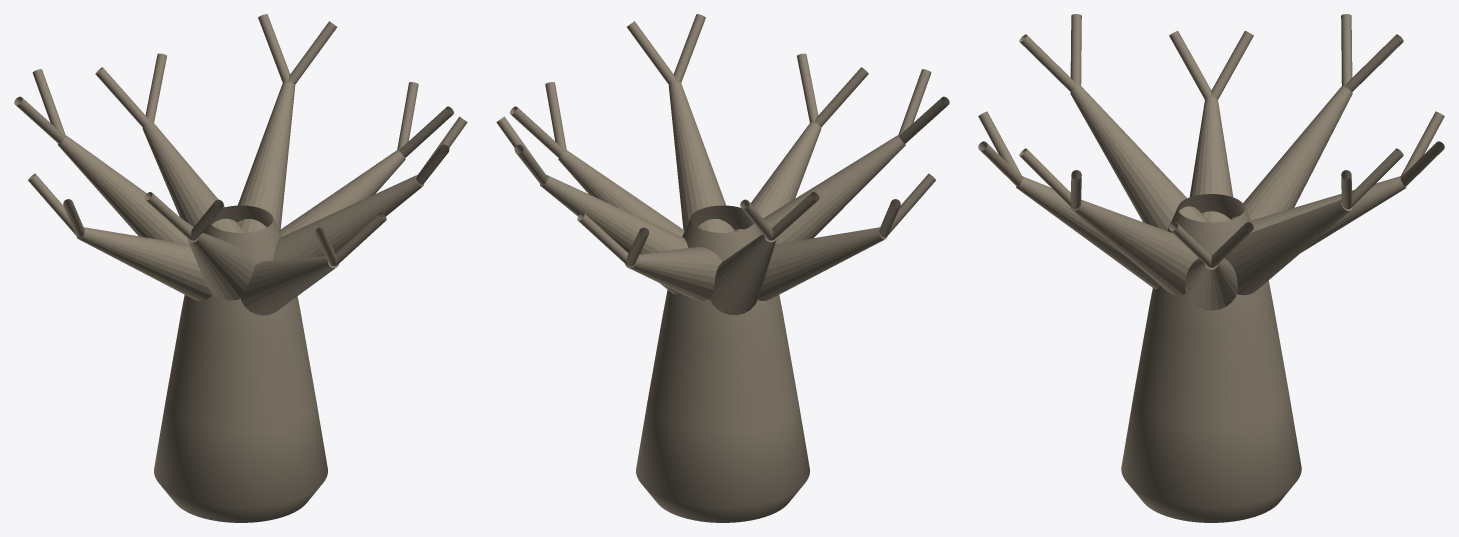
File: baobab-study.glb
3 views of the same model, side by side, from view 1: azimuth 30°, elevation 25°; view 2: azimuth 150°, elevation 25°; view 3: azimuth 270°, elevation 25° (orthographic). The views are drawn at different scales.
Visible parts, largest first — view 1: Swollen trunk, Cone.004, Cone.001, Cone.007, Cone.003, Cone.002, Cone.006, Cone.005, Cone, Outer branch.005, Outer branch.002, Outer branch.003 (+8 smaller); view 2: Swollen trunk, Cone.007, Cone.005, Cone.004, Cone.001, Cone.003, Cone.002, Cone.006, Cone, Outer branch.012, Outer branch.015, Outer branch.014 (+8 smaller); view 3: Swollen trunk, Cone.005, Cone.001, Cone.007, Cone.003, Cone.004, Cone.006, Cone.002, Cone, Outer branch.008, Outer branch.009, Outer branch.006 (+11 smaller).
Part boxes in pixels (x1,y1,x2,y2): Swollen trunk: [154, 205, 327, 522]; Cone.004: [77, 227, 212, 300]; Cone.001: [237, 82, 295, 232]; Cone.007: [273, 175, 423, 260]; Cone.003: [58, 135, 193, 244]; Cone.002: [142, 122, 243, 232]; Cone.006: [241, 256, 338, 315]; Cone.005: [187, 233, 255, 300]; Cone: [279, 150, 405, 236]; Outer branch.005: [95, 67, 149, 127]; Outer branch.002: [288, 21, 336, 84]; Outer branch.003: [258, 14, 290, 82]; Swollen trunk: [636, 205, 809, 522]; Cone.007: [668, 82, 734, 232]; Cone.005: [761, 135, 905, 244]; Cone.004: [758, 227, 886, 300]; Cone.001: [540, 175, 688, 294]; Cone.003: [710, 234, 776, 315]; Cone.002: [625, 247, 722, 300]; Cone.006: [734, 122, 821, 231]; Cone: [558, 150, 684, 236]; Outer branch.012: [814, 67, 868, 127]; Outer branch.015: [627, 21, 675, 84]; Outer branch.014: [673, 14, 705, 82]; Swollen trunk: [1121, 194, 1301, 522]; Cone.005: [1070, 86, 1209, 230]; Cone.001: [1224, 200, 1352, 295]; Cone.007: [1070, 200, 1198, 295]; Cone.003: [1230, 86, 1352, 220]; Cone.004: [1189, 97, 1233, 222]; Cone.006: [1016, 176, 1160, 289]; Cone.002: [1250, 176, 1406, 252]; Cone: [1185, 254, 1237, 310]; Outer branch.008: [1211, 31, 1253, 99]; Outer branch.009: [1169, 31, 1211, 99]; Outer branch.006: [1345, 34, 1403, 91].
Size of the model in its own units: 4.86 by 4.61 by 4.86.
